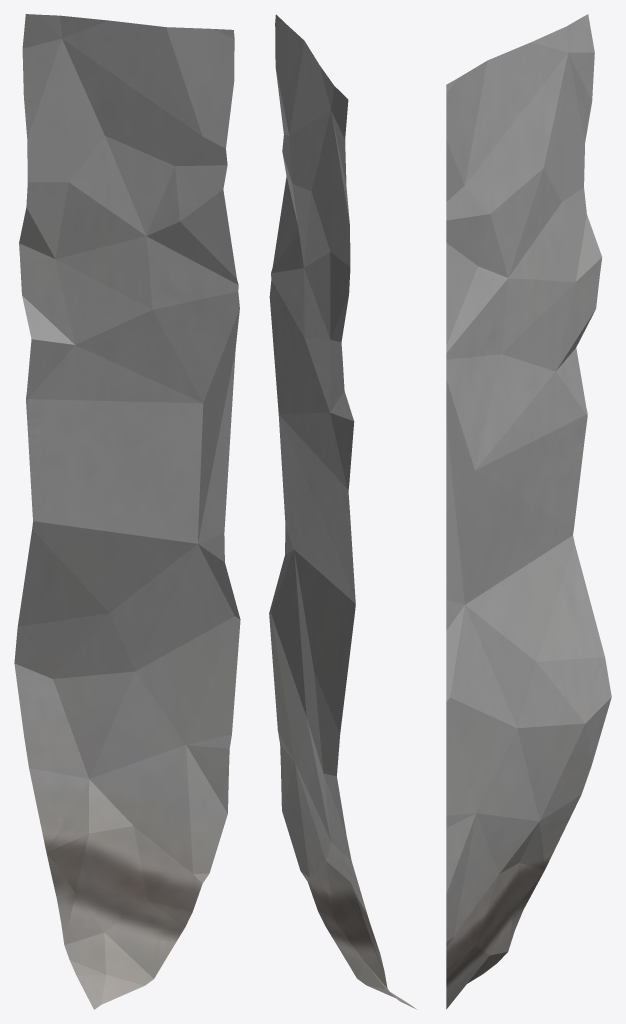
3 views of the same model, side by side, from view 1: azimuth 30°, elevation 25°; view 2: azimuth 150°, elevation 25°; view 3: azimuth 270°, elevation 25° (orthographic). The views are drawn at different scales.
Size of the model in its own units: 0.1229 by 0.7586 by 0.1159.
1 material, 1 textured.
